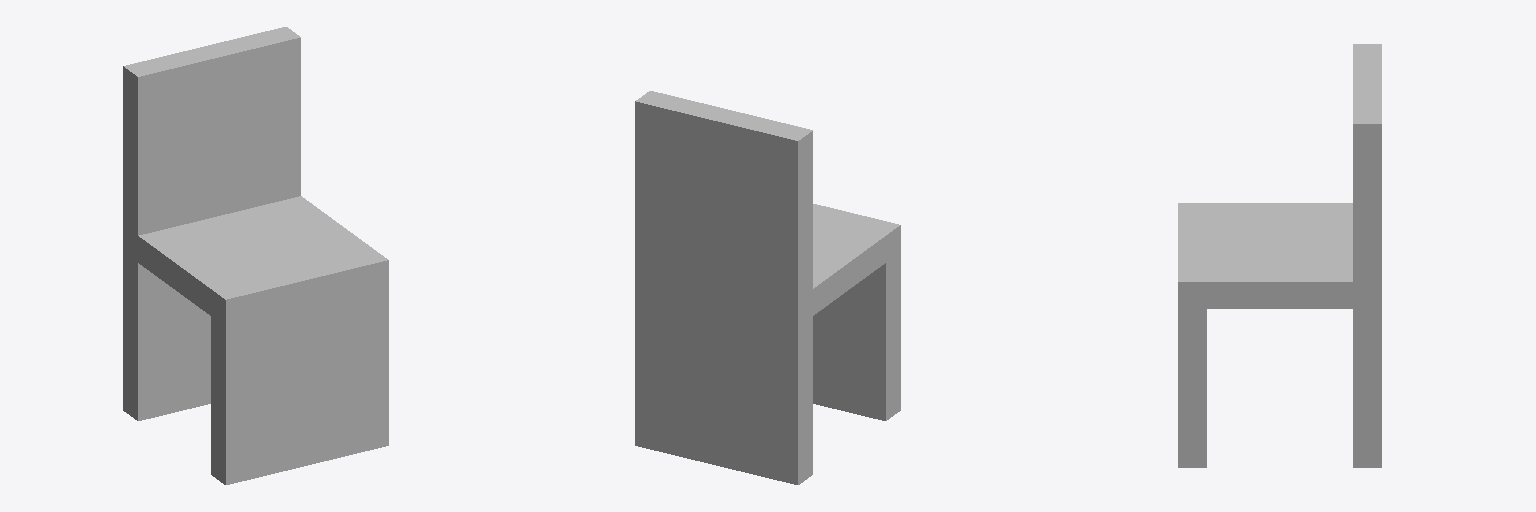
The model's file is ChairBasic.obj.
The picture shows the model from 3 angles: view 1: azimuth 30°, elevation 25°; view 2: azimuth 150°, elevation 25°; view 3: azimuth 270°, elevation 25°; orthographic projection.
Size of the model in its own units: 1.59 by 3.21 by 1.73.